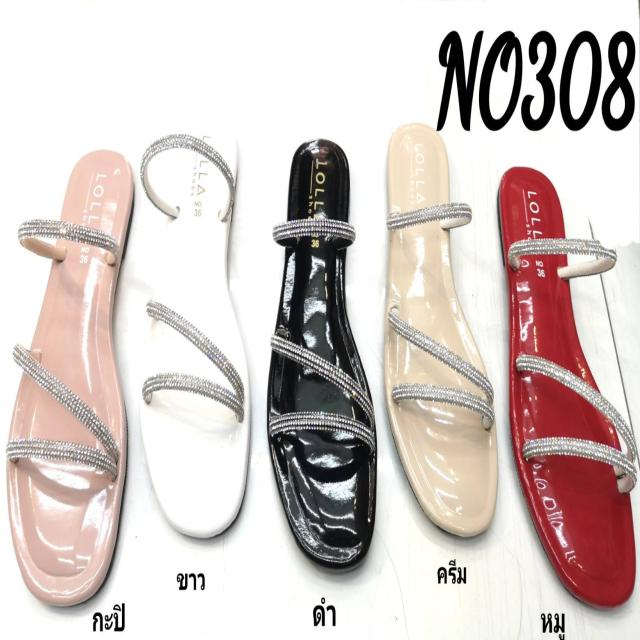black: (264, 140, 375, 572)
cream: (386, 128, 498, 540)
kapi: (4, 150, 126, 602)
moo: (499, 171, 636, 605)
white: (134, 107, 254, 529)
